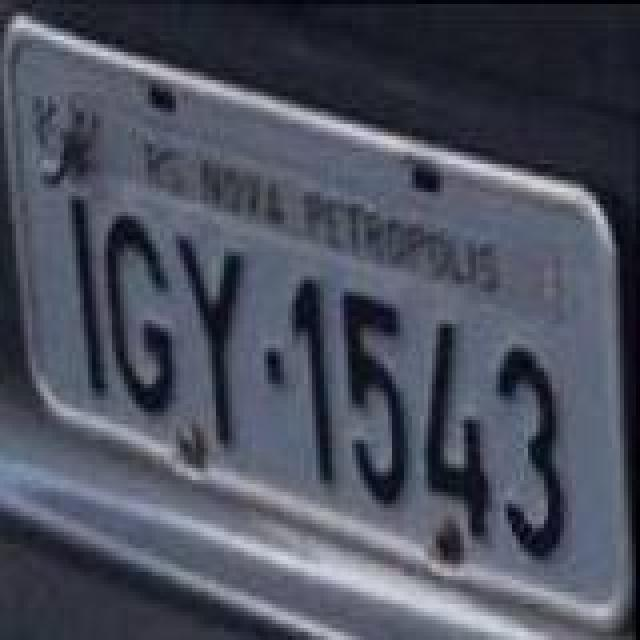1: (288, 272, 332, 484), (70, 192, 110, 400)
3: (498, 342, 570, 562)
4: (428, 318, 496, 542)
5: (340, 294, 408, 510)
G: (106, 208, 178, 416)
Y: (174, 232, 246, 452)
